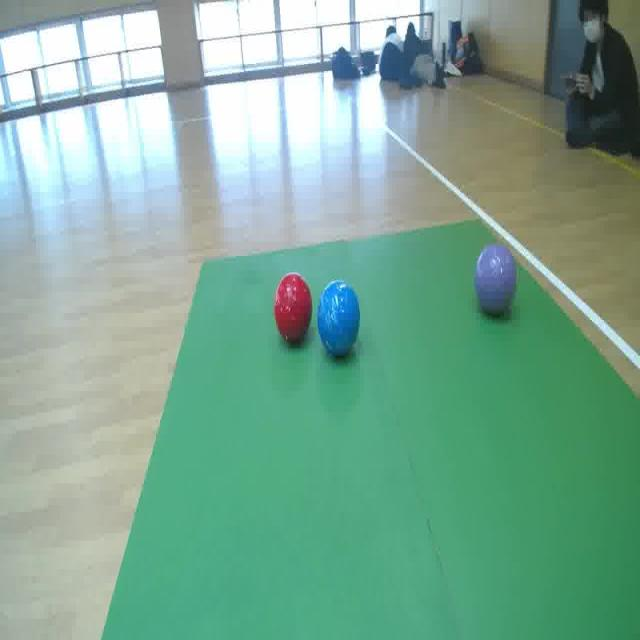blue_ball: (319, 278, 360, 359)
purple_ball: (475, 242, 517, 316)
red_ball: (275, 274, 313, 343)
